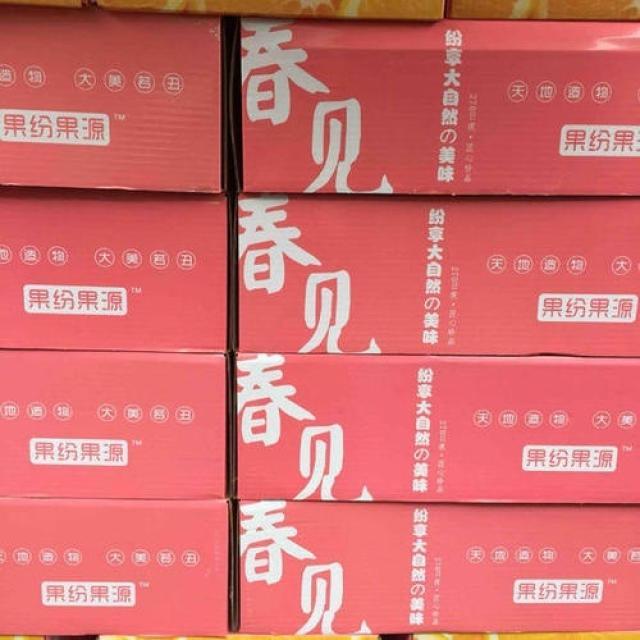box: (229, 18, 639, 196), (235, 194, 639, 355), (236, 353, 639, 507), (239, 499, 639, 634), (0, 6, 231, 193), (0, 189, 233, 352)
